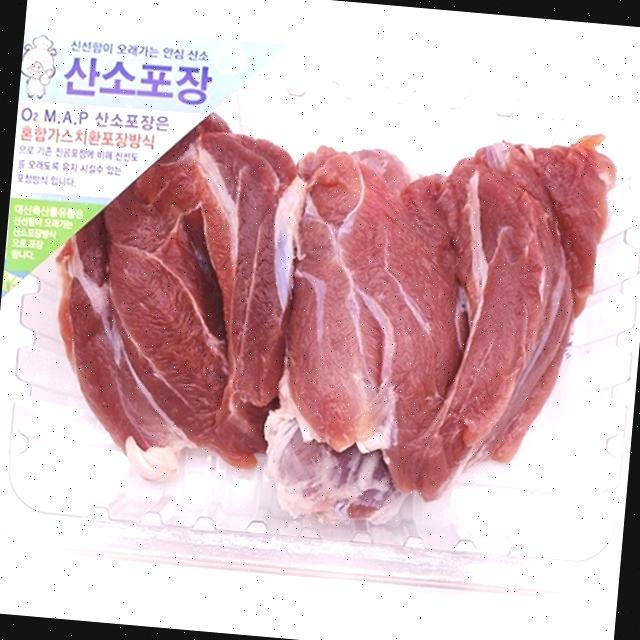meat: (0, 16, 640, 609)
